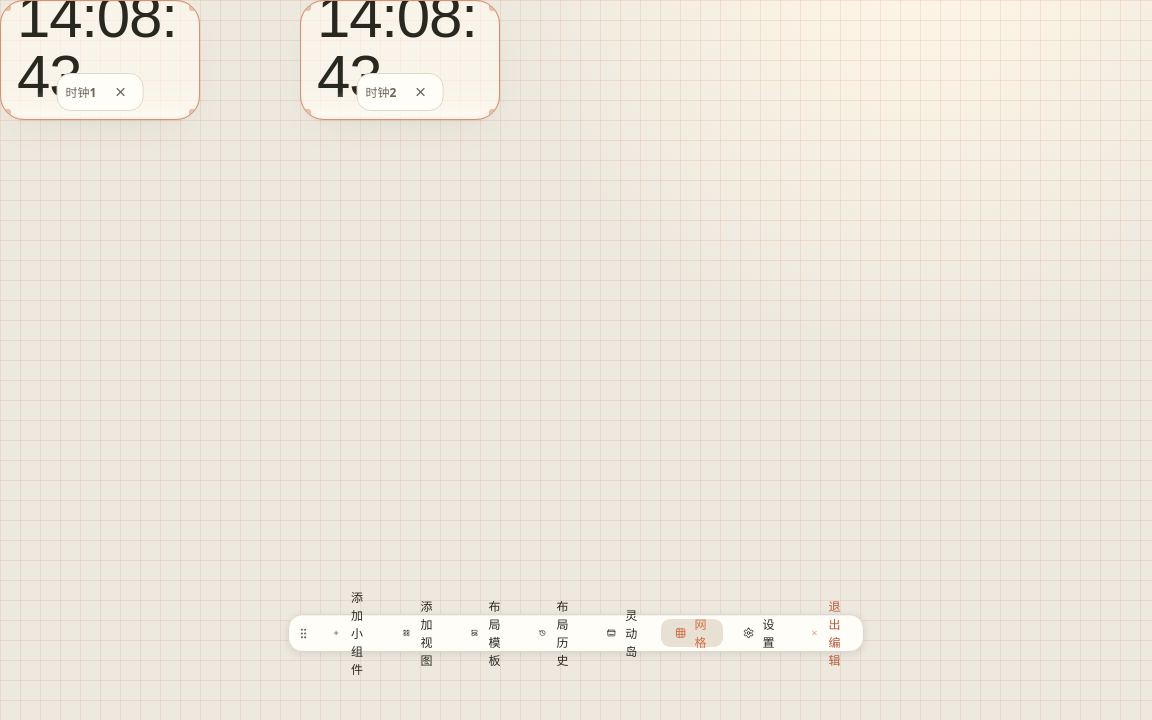
Test: 编辑工具栏弹层治理 › Esc 收面板后焦点归还触发按钮（键盘闭环）
Click the button "布局模板".
click(488, 633)  # box [457, 619, 519, 647]
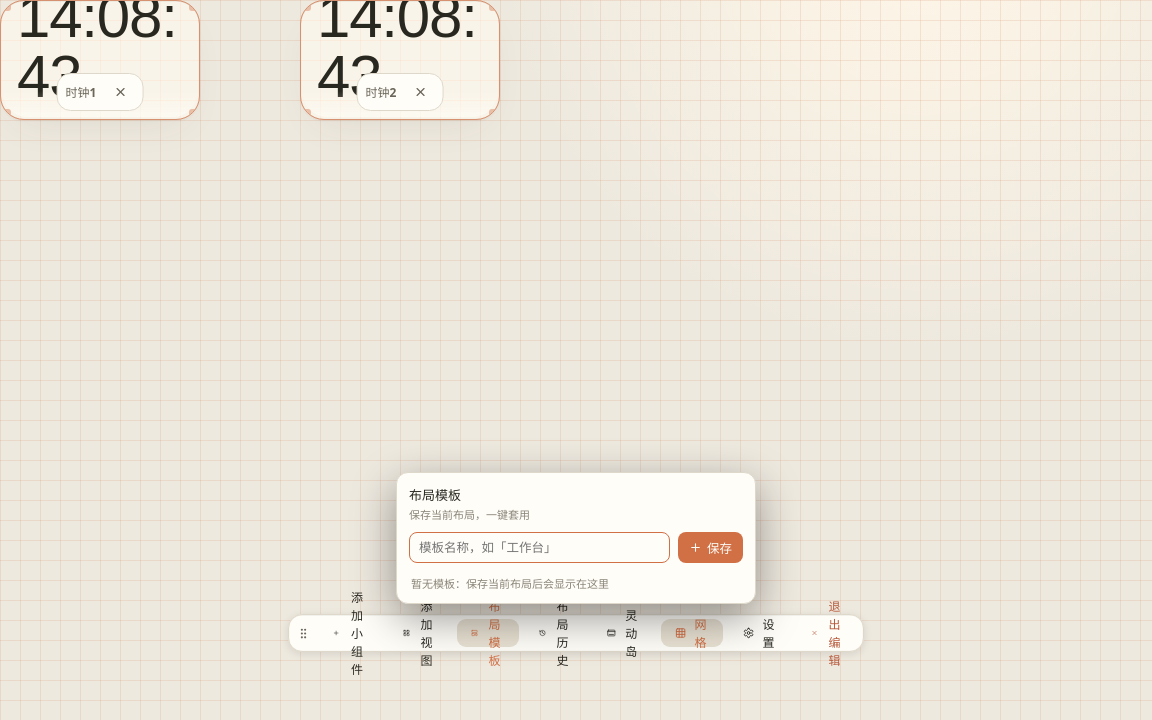
Check: the dialog "布局模板" is shown, box [396, 472, 756, 604]
Note: autoFocus 把焦点放进名称框；Esc 收面板后应归还到「布局模板」按钮。
Press Escape
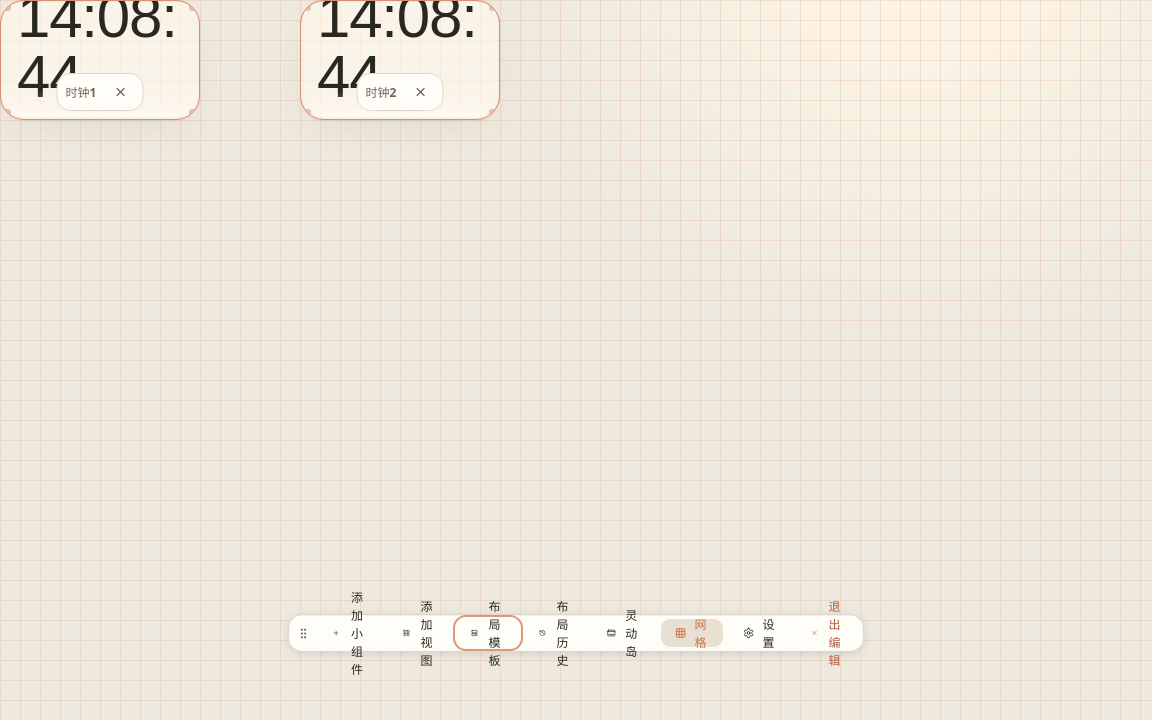
Check: the dialog "布局模板 保存当前布局，一键套用 保存 暂无模板：保存当前布局后会显示在这里" is gone
